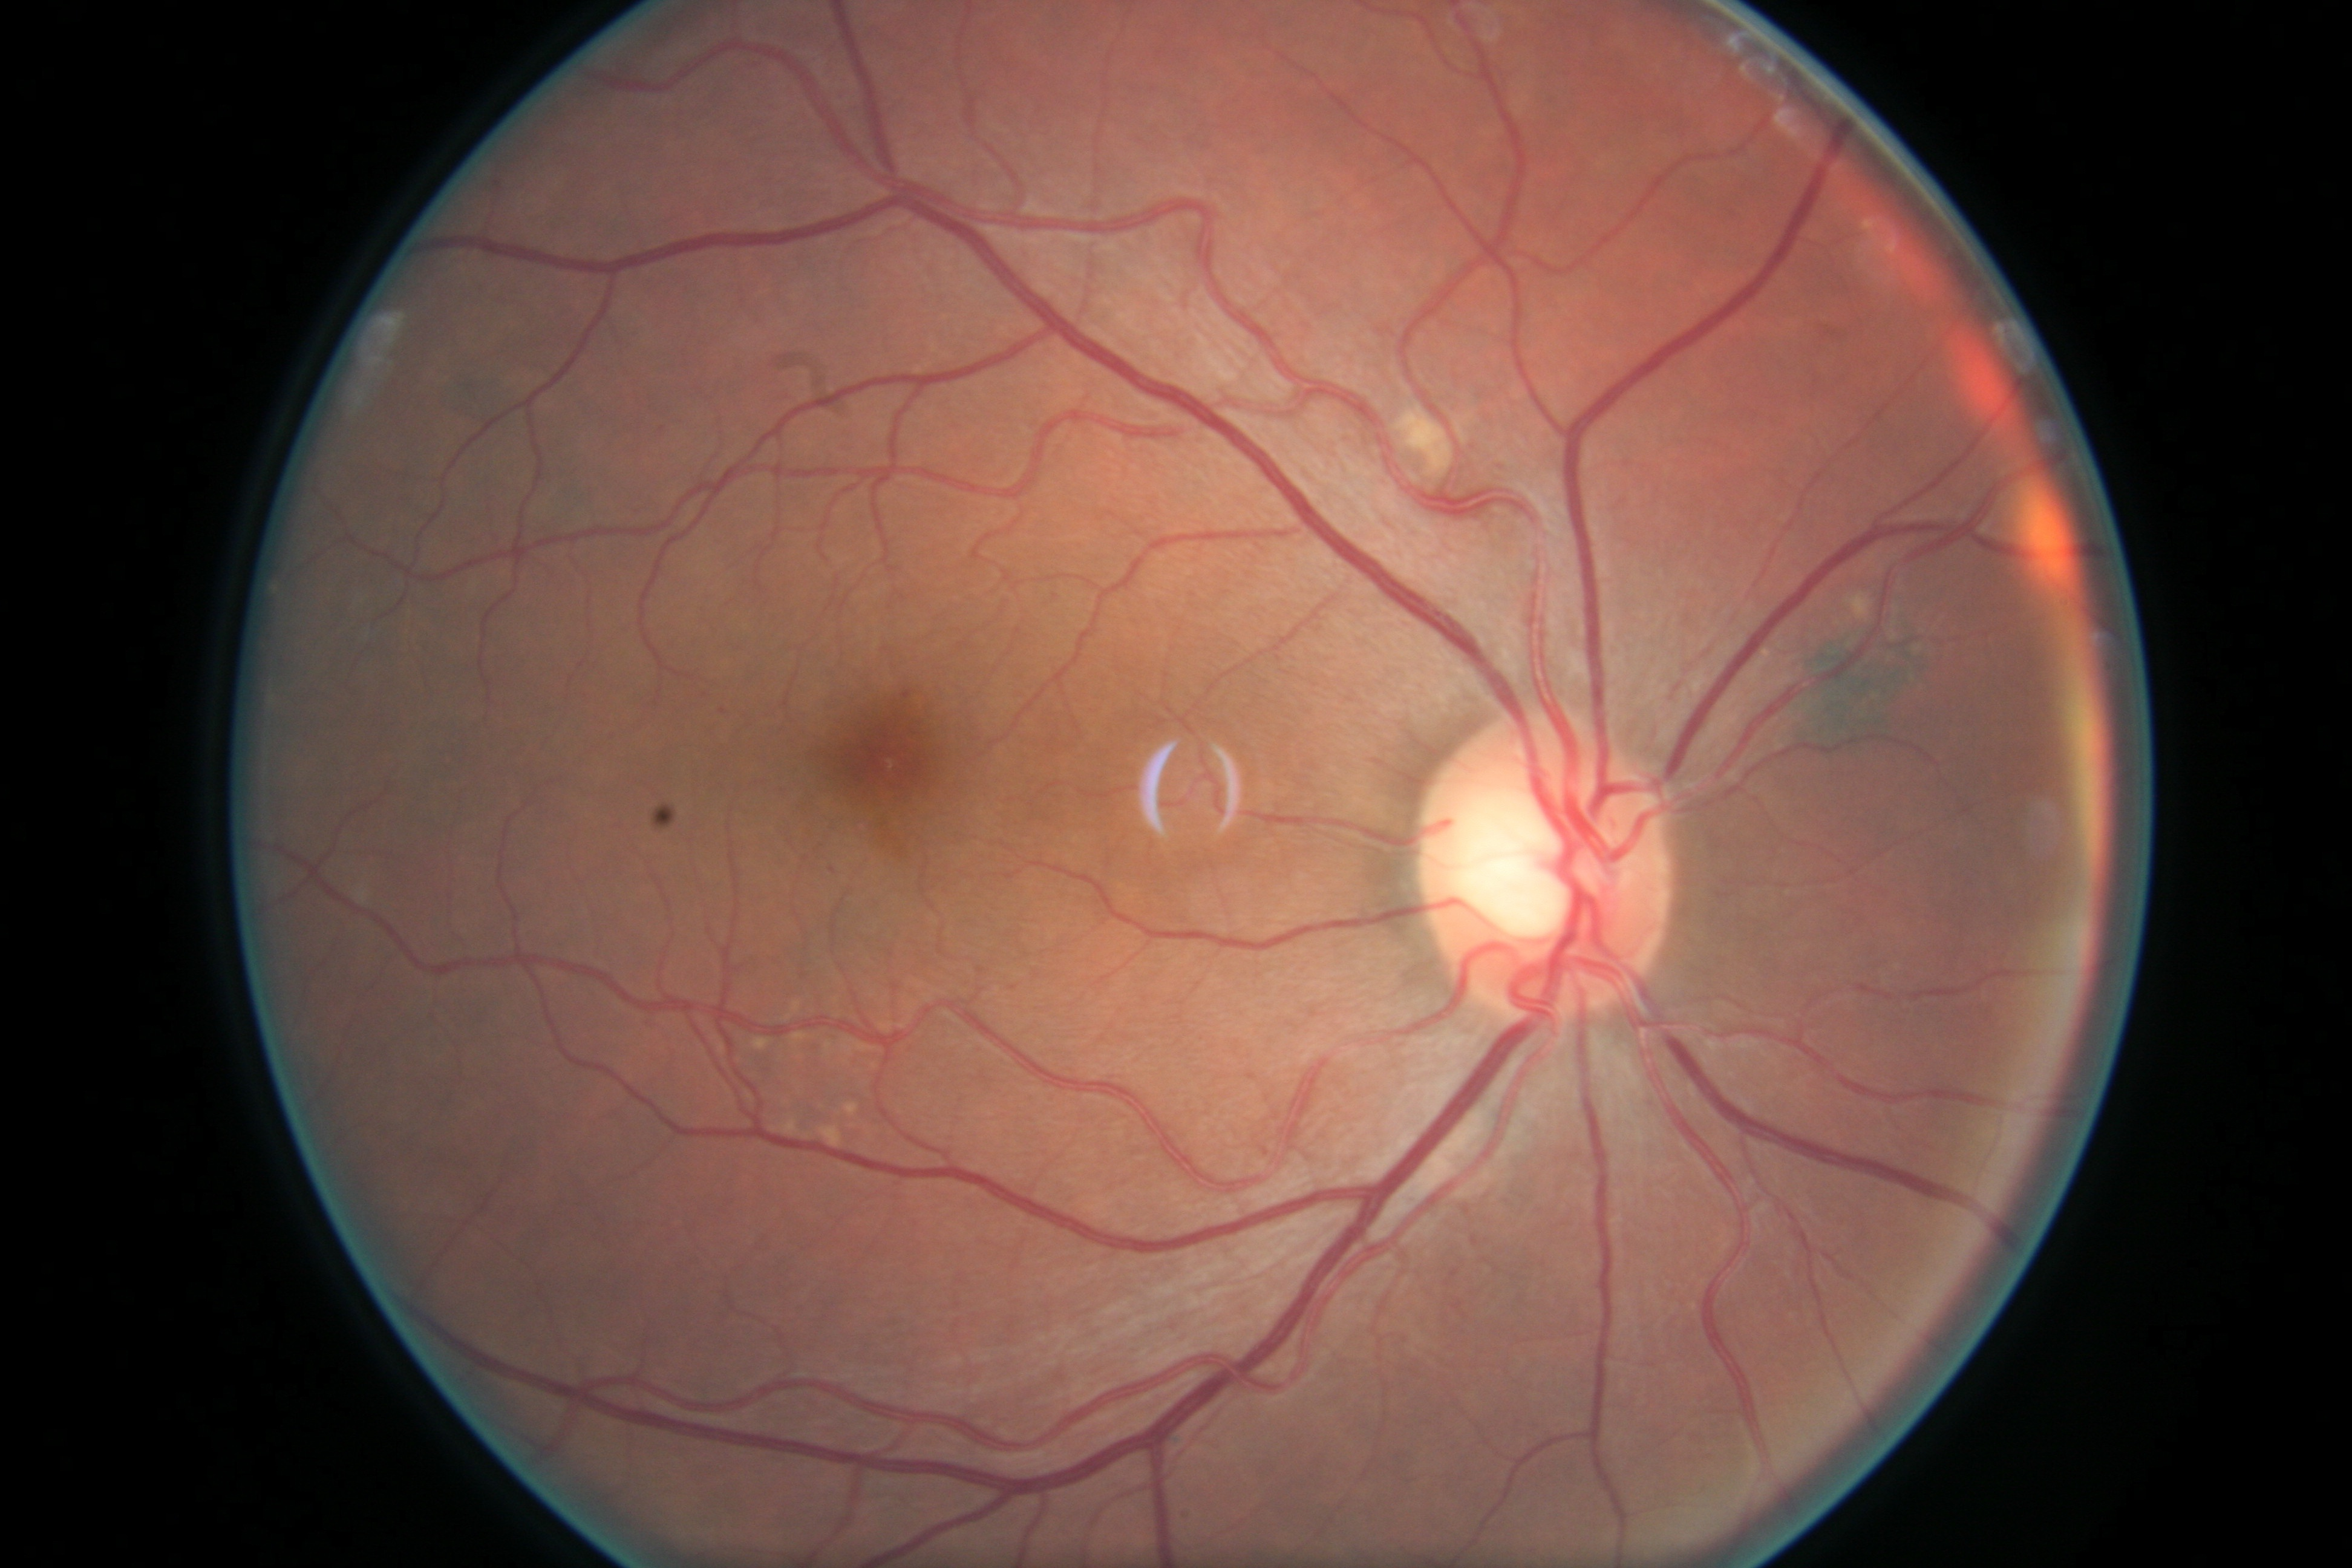Fovea: (786, 665, 975, 857)
OD: (1395, 696, 1684, 1043)
